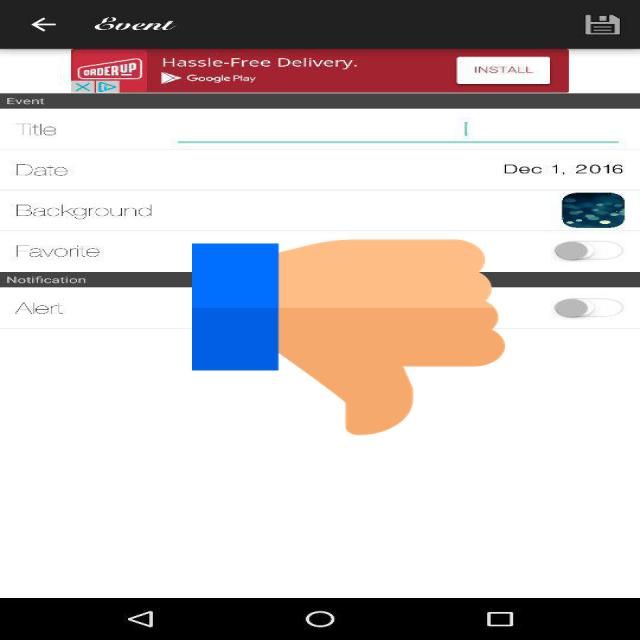obstruction: (192, 235, 505, 440)
